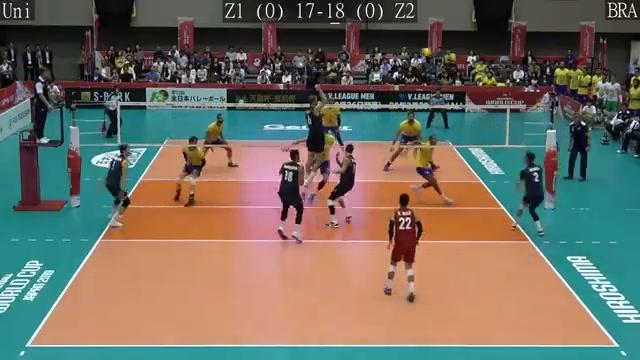ball: (420, 46, 432, 59)
